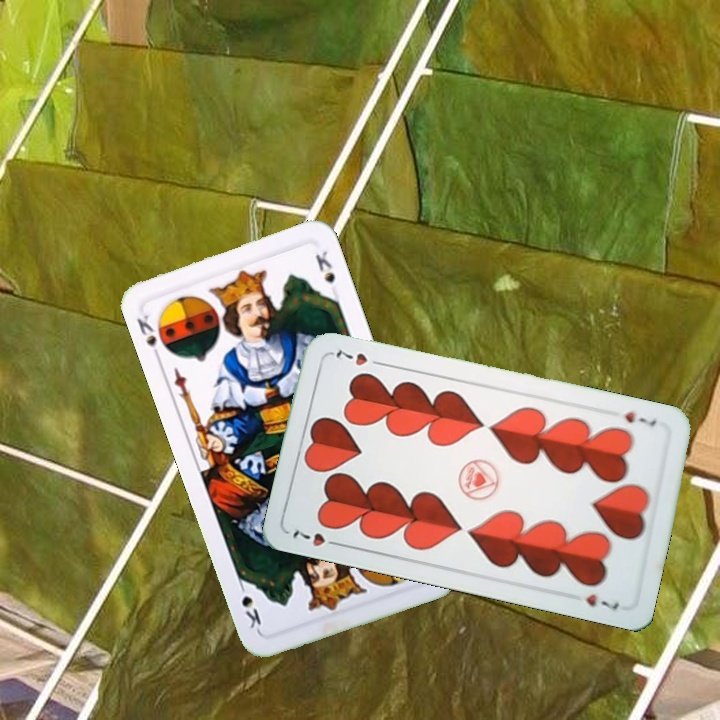H7: (288, 526, 345, 549), (621, 407, 659, 430)
SK: (132, 310, 164, 363)
